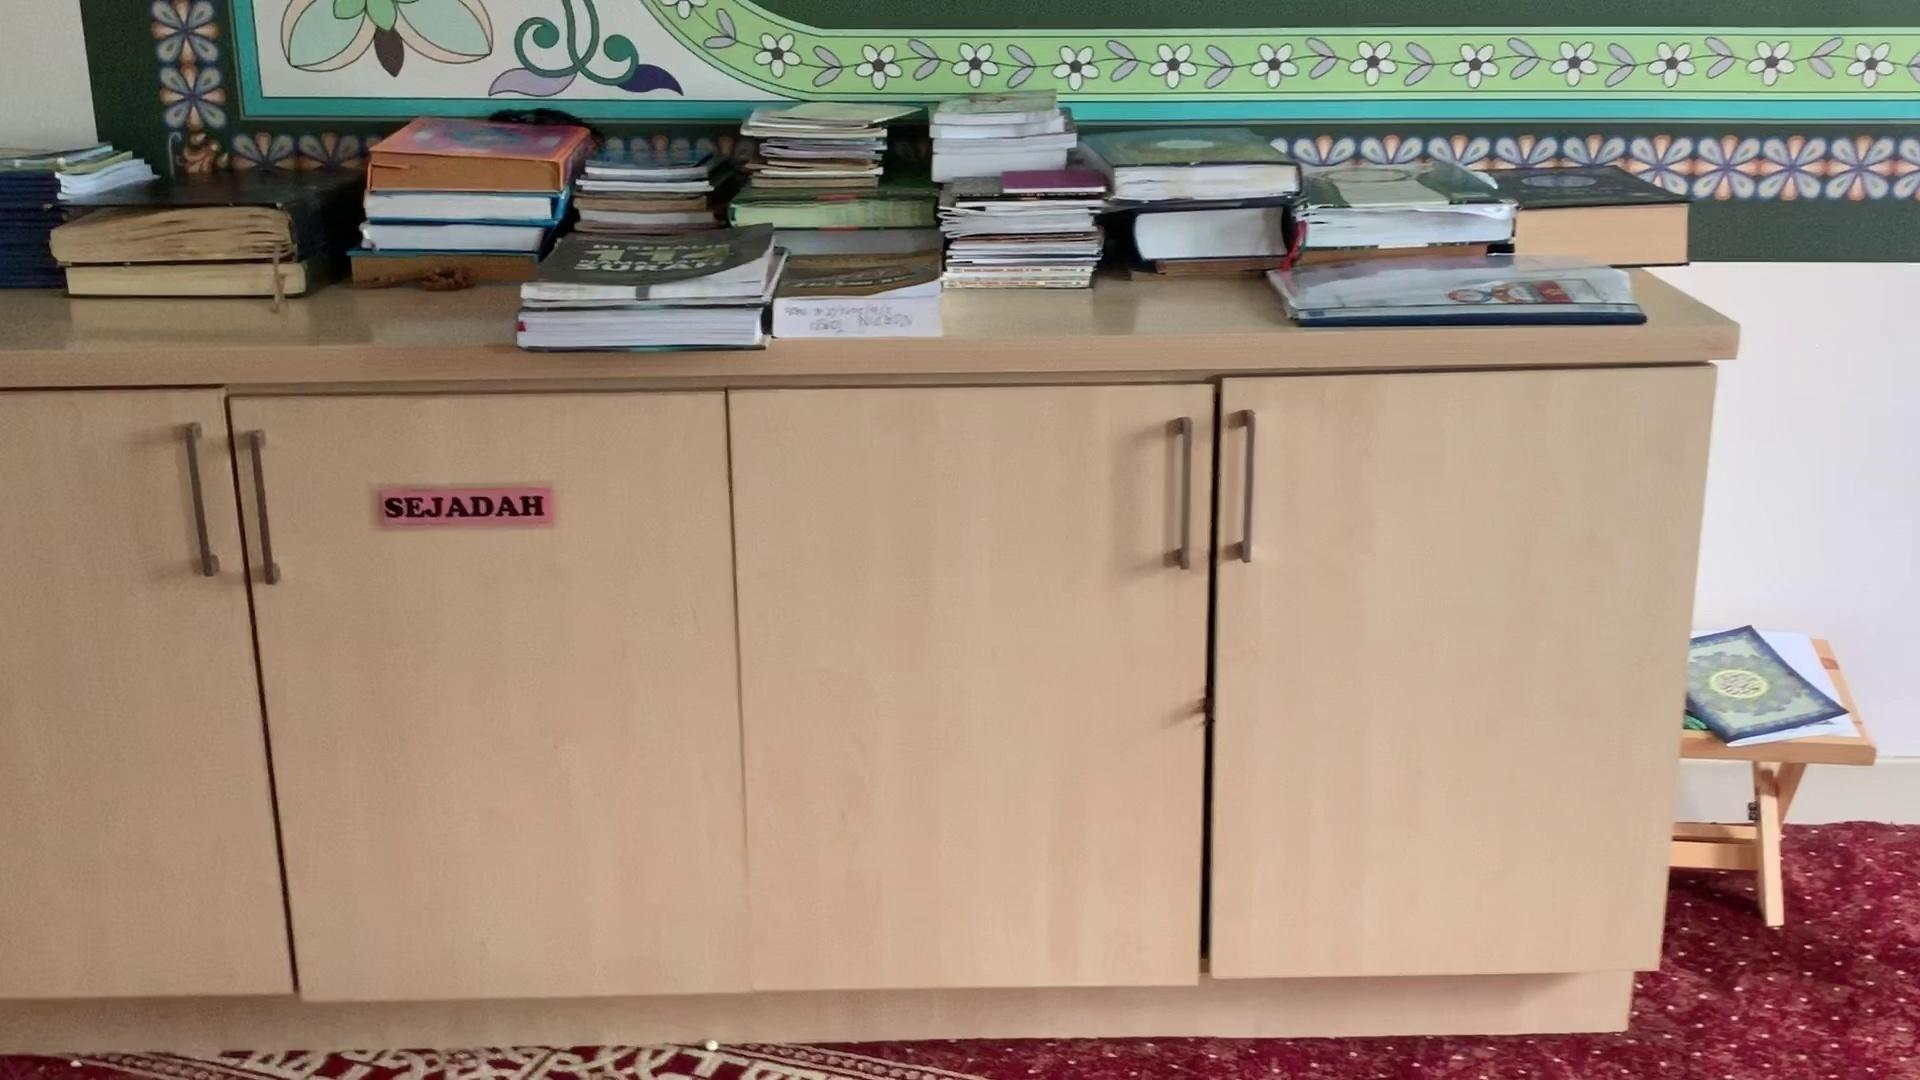cabinet_door: (256, 397, 733, 1000), (1208, 385, 1677, 980), (742, 390, 1208, 989), (0, 396, 258, 1000)
handle: (173, 414, 232, 583), (233, 418, 290, 593), (1158, 407, 1201, 578), (1226, 404, 1267, 575)
